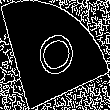O_W: (30, 26, 80, 84)
